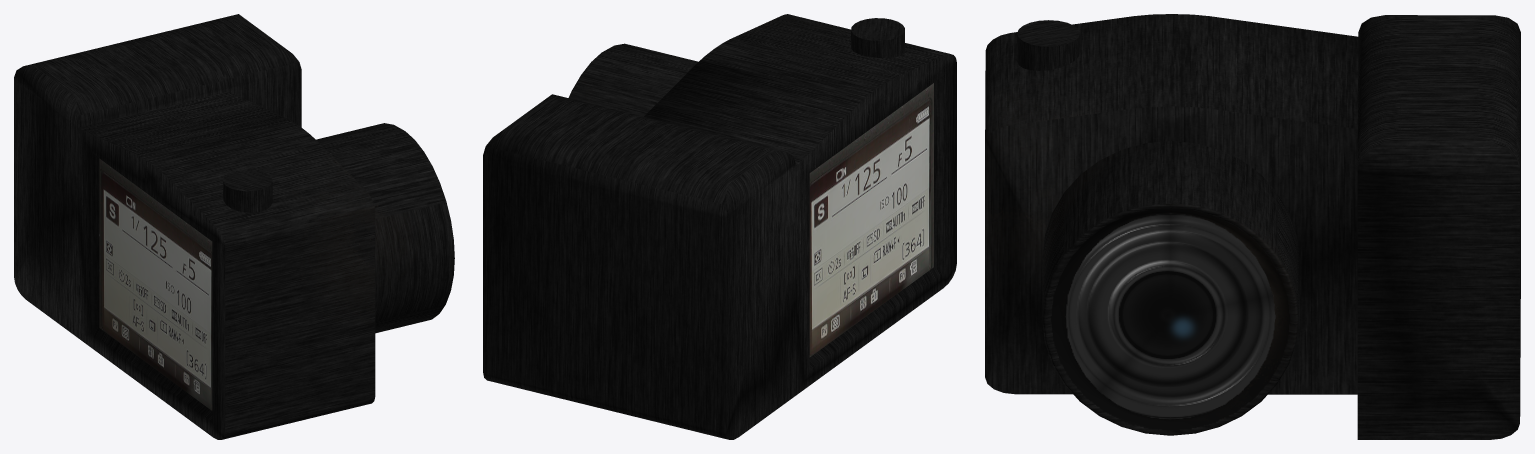
File: Camera.fbx
3 renders of one model, left to right at view 1: azimuth 30°, elevation 25°; view 2: azimuth 150°, elevation 25°; view 3: azimuth 270°, elevation 25°, orthographic. The views are drawn at different scales.
Parts seen in each view (by area): view 1: Camera; view 2: Camera; view 3: Camera.
Part boxes in pixels (x1,y1,x2,y2): Camera: [14, 14, 454, 439]; Camera: [483, 14, 956, 439]; Camera: [985, 14, 1520, 439].
Bounding box in the file's own units: 13.67 × 12.14 × 19.79.
Materials: 1 (1 with a texture image).
